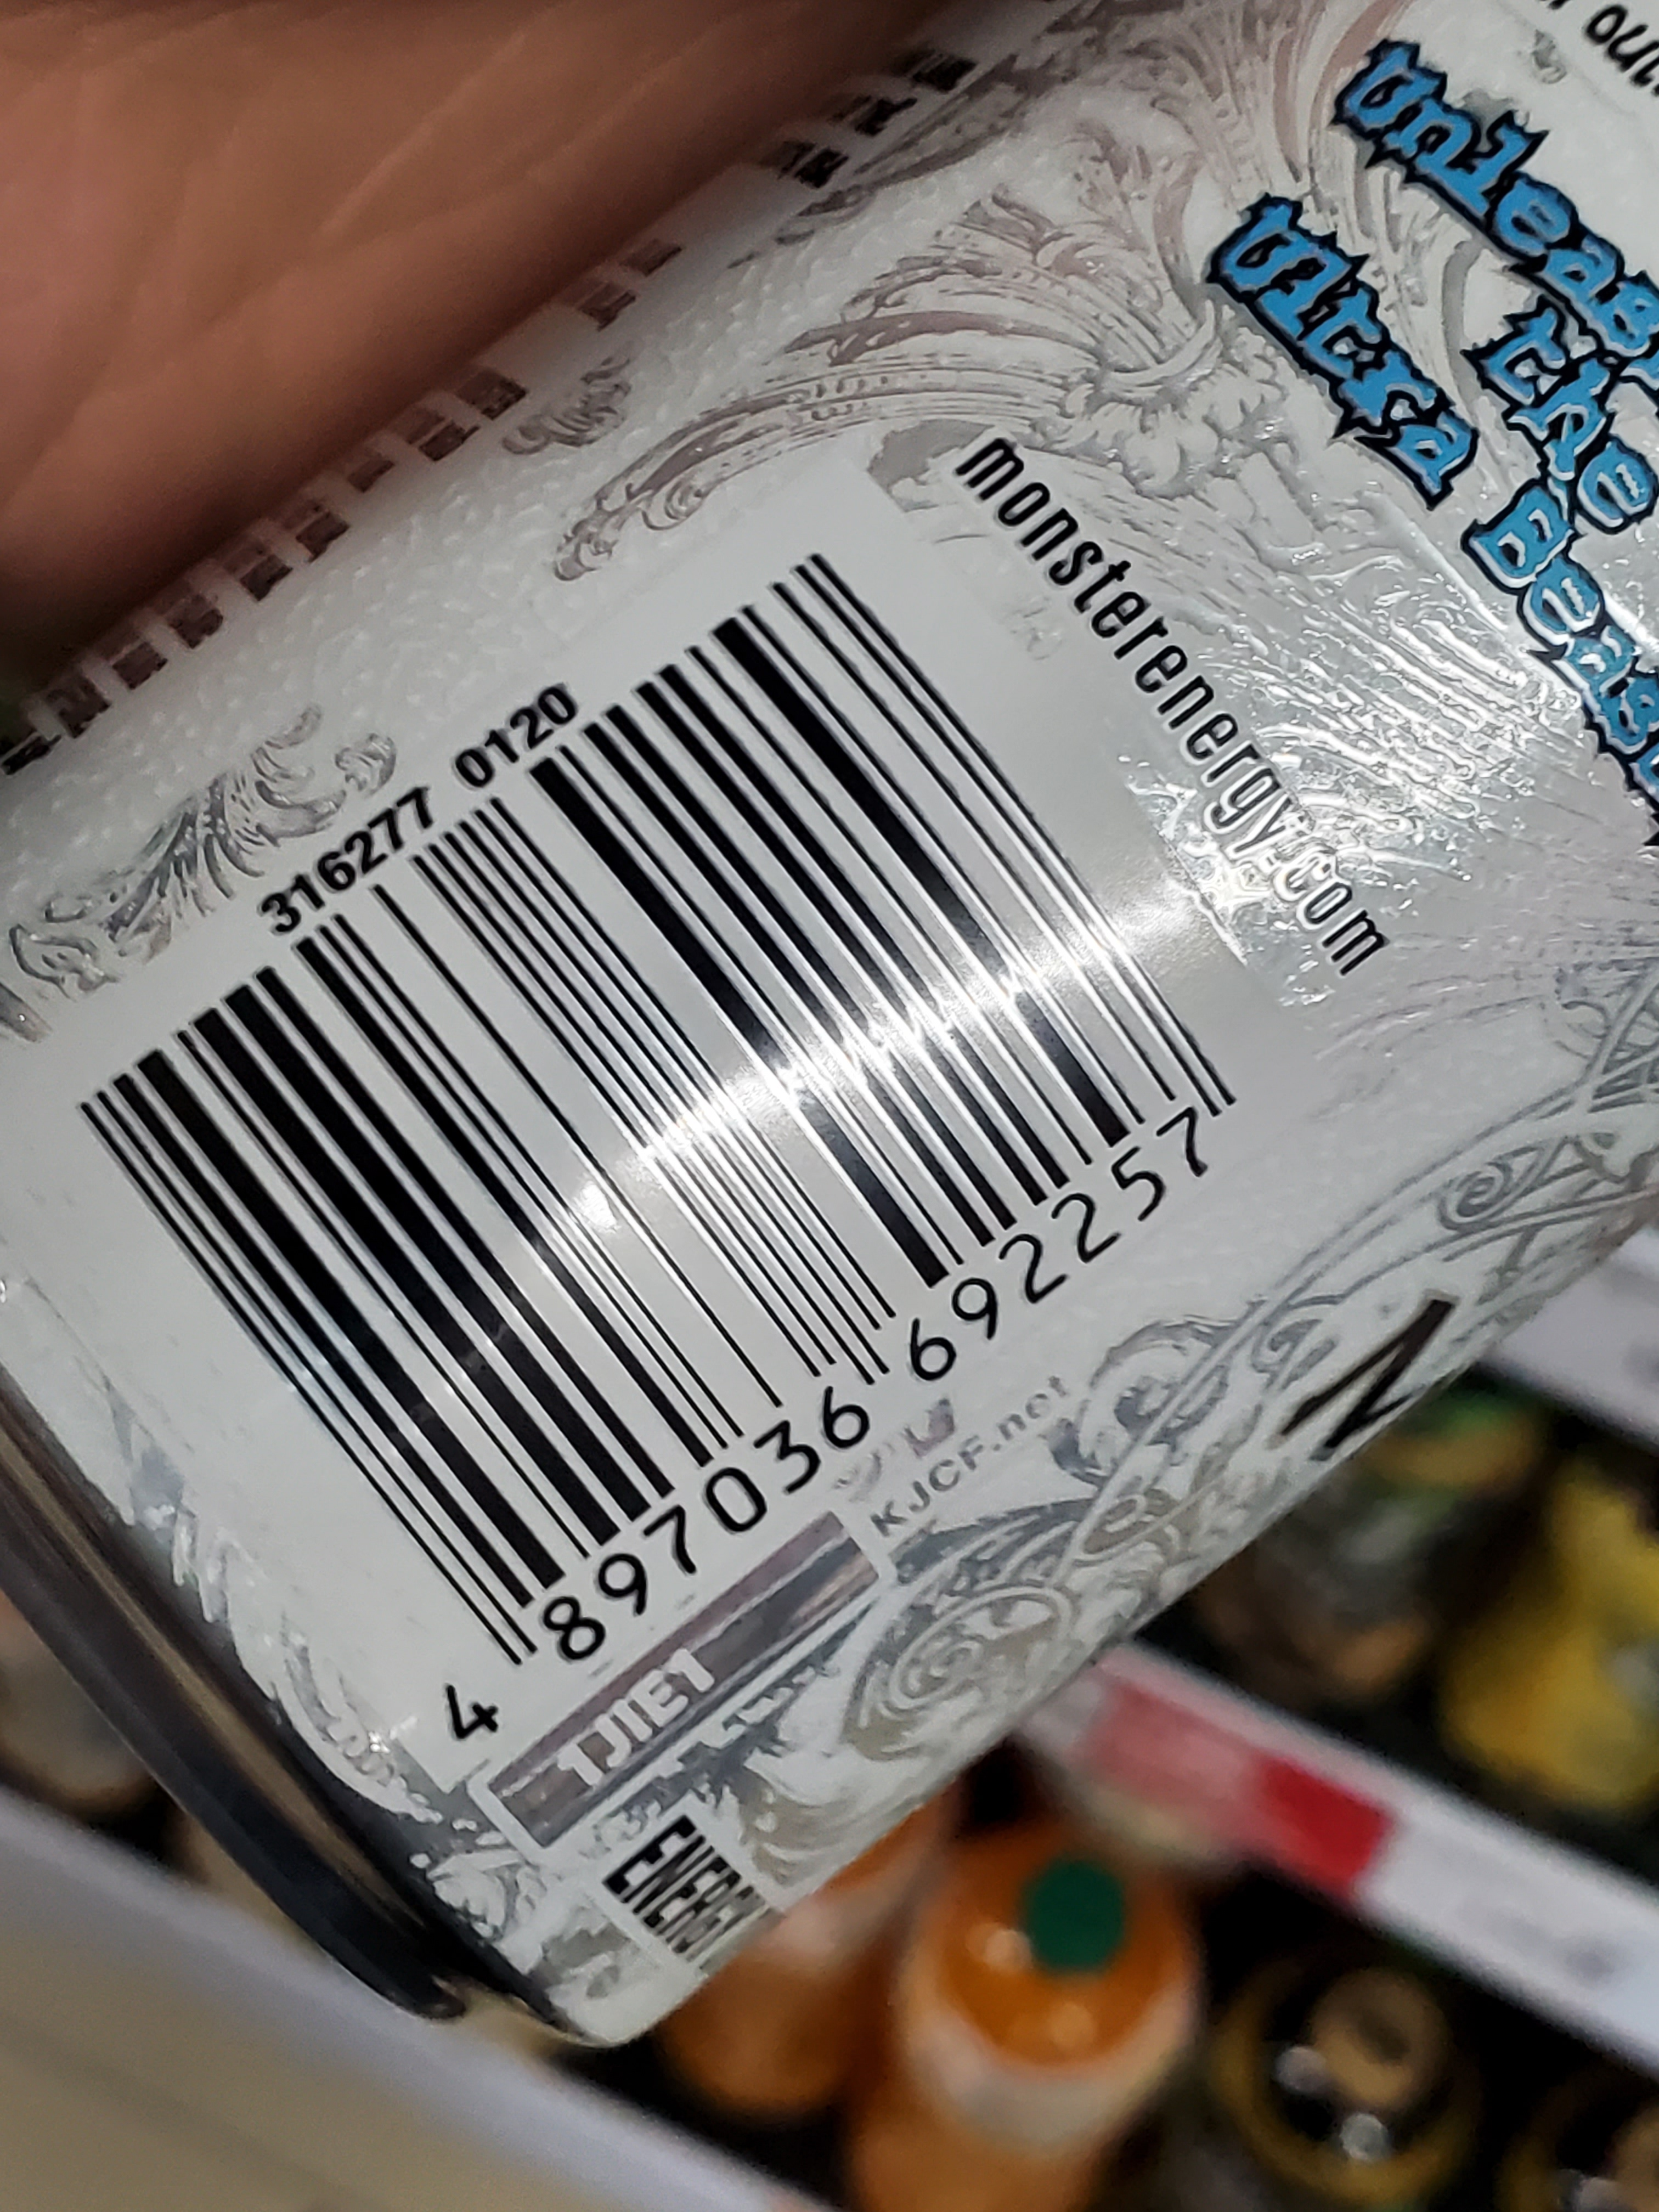barcode: (58, 531, 1253, 1787)
